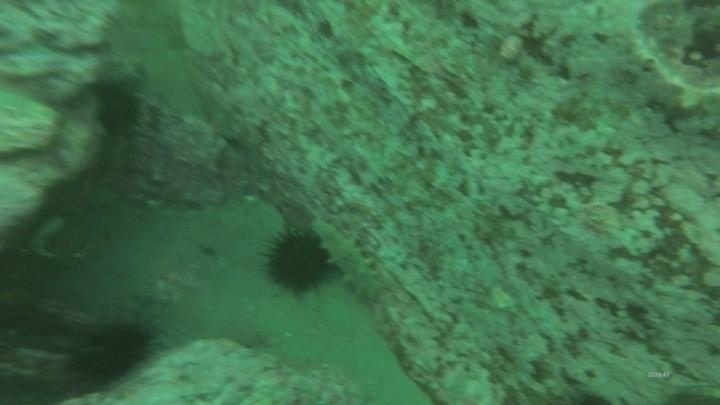echinus: (64, 318, 158, 389), (259, 225, 335, 298), (92, 82, 144, 139)
holothurian: (307, 216, 386, 303)
